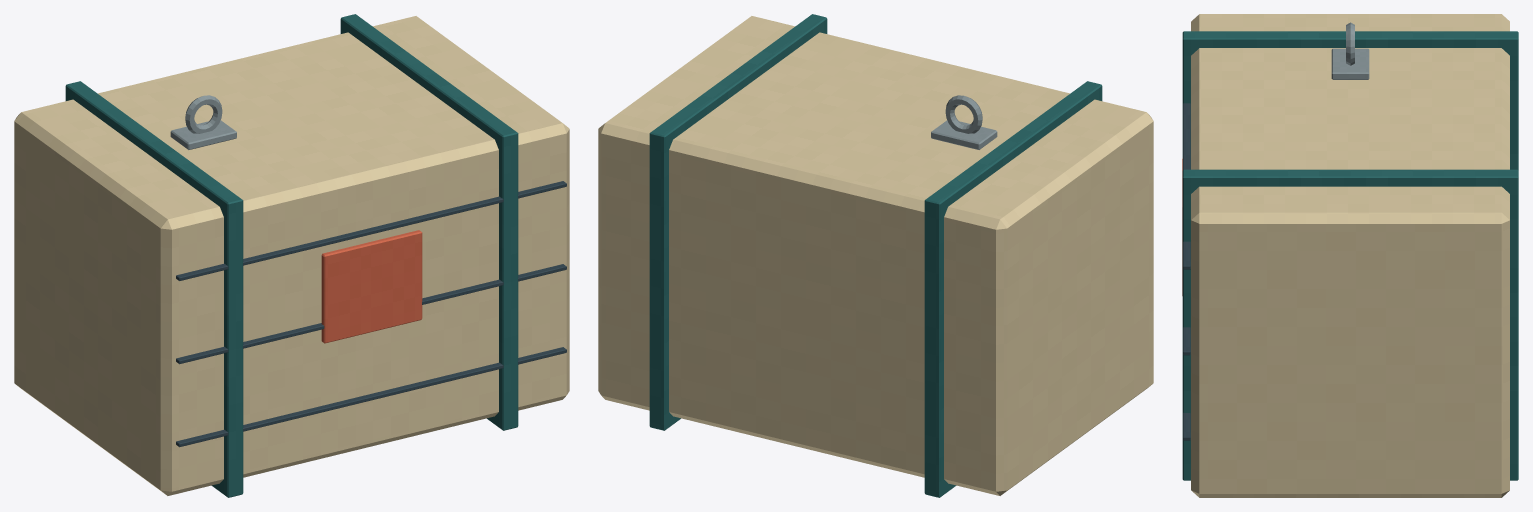
The model's file is crate-lod-1.glb.
3 views of the same model, side by side, from view 1: azimuth 30°, elevation 25°; view 2: azimuth 150°, elevation 25°; view 3: azimuth 270°, elevation 25° (orthographic). The views are drawn at different scales.
Parts seen in each view (by area): view 1: crate_lod_1; view 2: crate_lod_1; view 3: crate_lod_1.
Part boxes in pixels (x1=…): crate_lod_1: x1=14, y1=14, x2=569, y2=497; crate_lod_1: x1=598, y1=14, x2=1153, y2=497; crate_lod_1: x1=1182, y1=14, x2=1518, y2=497.
Size of the model in its own units: 2.32 by 1.97 by 1.6.
1 material, 1 textured.
